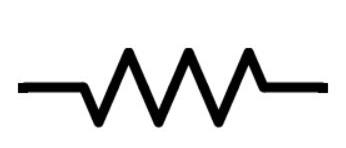resistor: (79, 36, 285, 132)
